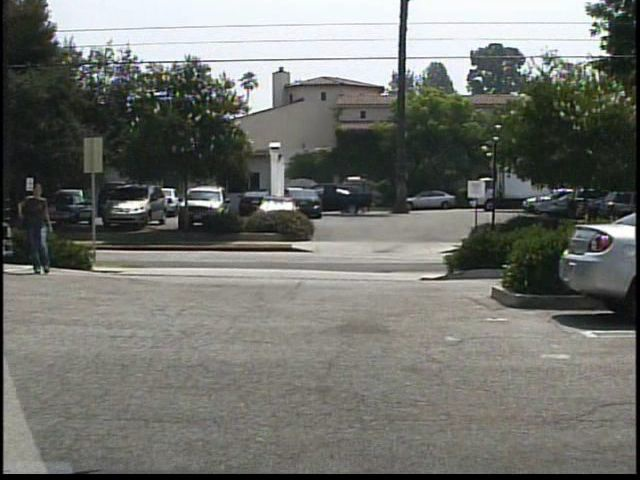person: (20, 183, 59, 276)
